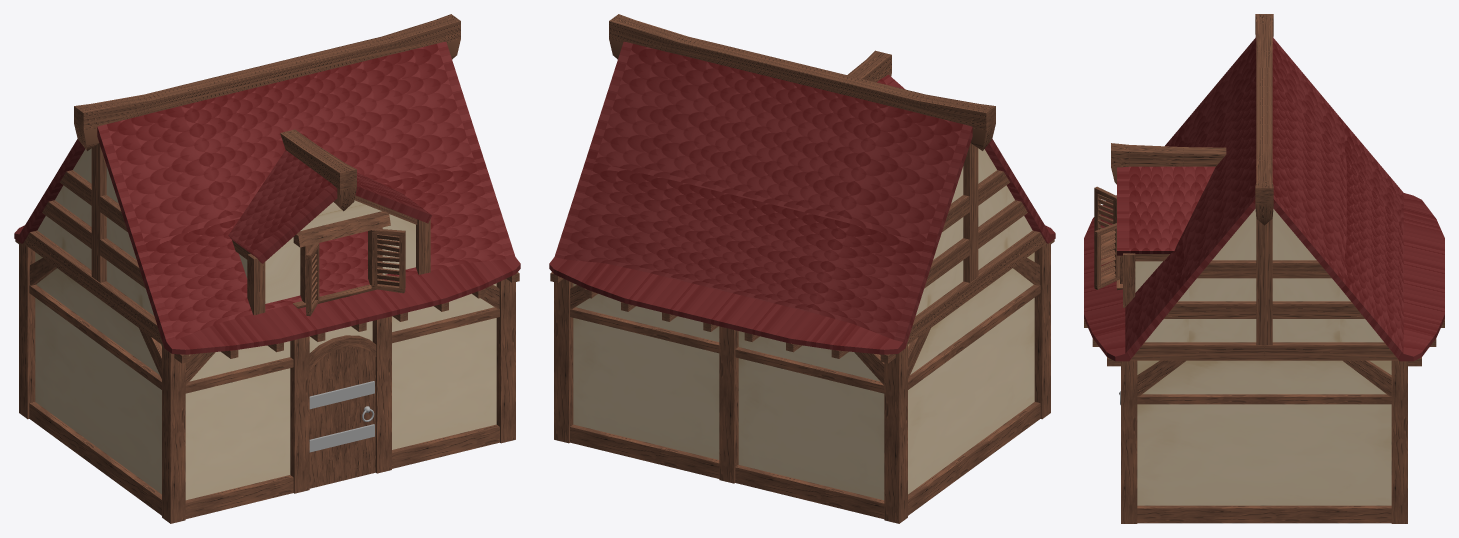
The model's file is House2_FBX.fbx.
3 renders of one model, left to right at view 1: azimuth 30°, elevation 25°; view 2: azimuth 150°, elevation 25°; view 3: azimuth 270°, elevation 25°, orthographic. The views are drawn at different scales.
Parts seen in each view (by area): view 1: House2; view 2: House2; view 3: House2.
Boxes of the visible parts, x1,y1,x2,y2 form: House2: (14, 14, 520, 523); House2: (549, 14, 1055, 523); House2: (1084, 14, 1444, 523).
Size of the model in its own units: 914 by 840 by 800.
